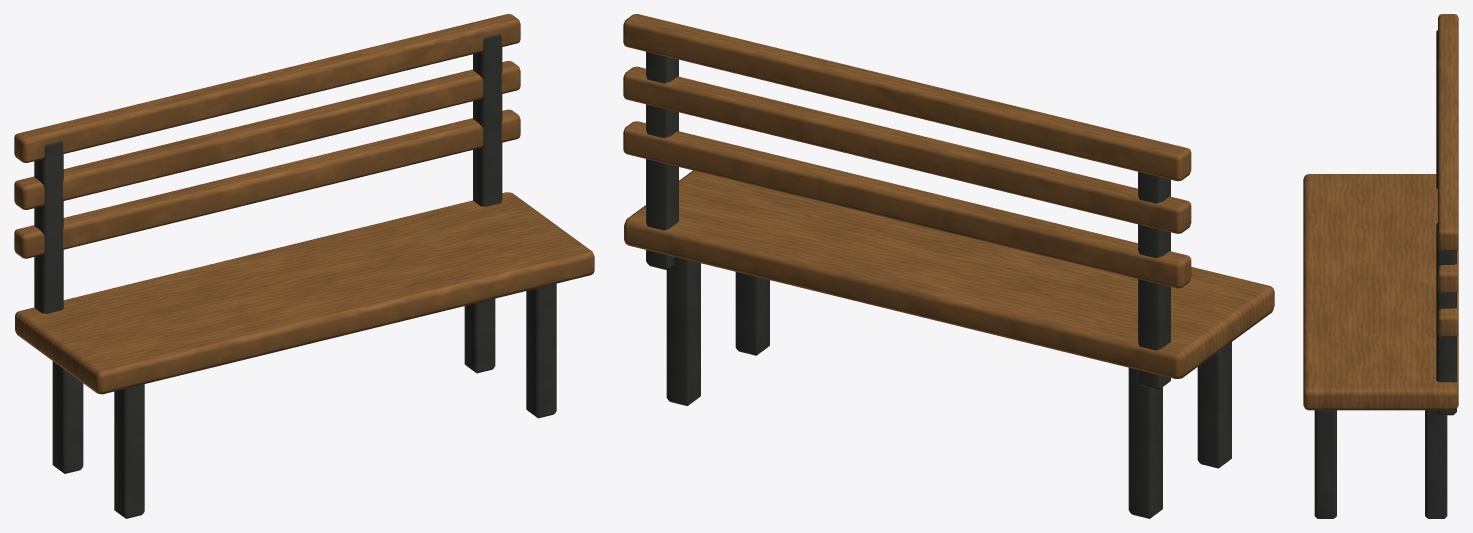
File: Furn_BenchBack.fbx
The picture shows the model from 3 angles, left to right: view 1: azimuth 30°, elevation 25°; view 2: azimuth 150°, elevation 25°; view 3: azimuth 270°, elevation 25°; orthographic projection. The views are drawn at different scales.
Parts seen in each view (by area): view 1: Furn_BenchBack_Mesh; view 2: Furn_BenchBack_Mesh; view 3: Furn_BenchBack_Mesh.
Part boxes in pixels (x1,y1,x2,y2): Furn_BenchBack_Mesh: (14, 14, 594, 518); Furn_BenchBack_Mesh: (623, 14, 1274, 518); Furn_BenchBack_Mesh: (1303, 14, 1458, 518).
Bounding box in the file's own units: 1.5 × 0.97 × 0.45.
Materials: 2 (2 with a texture image).
